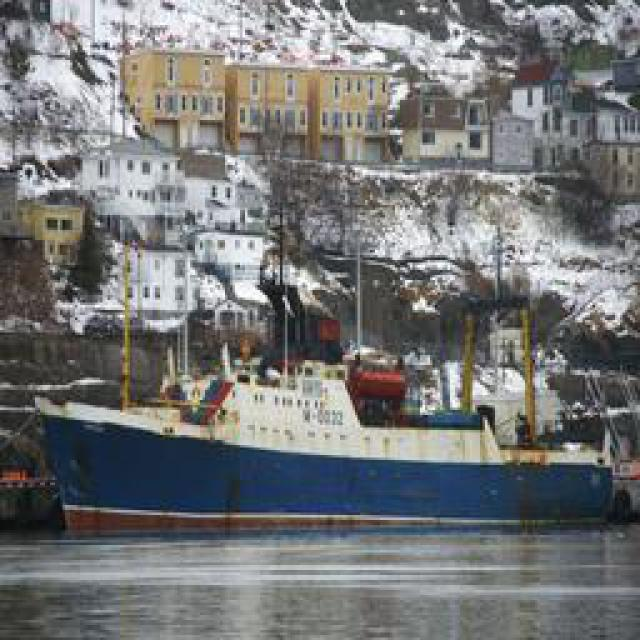Ship: (30, 355, 620, 530)
